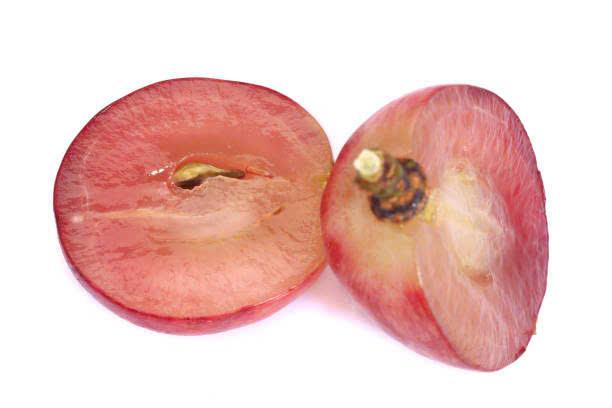grape: (45, 69, 322, 334), (318, 70, 557, 375)
